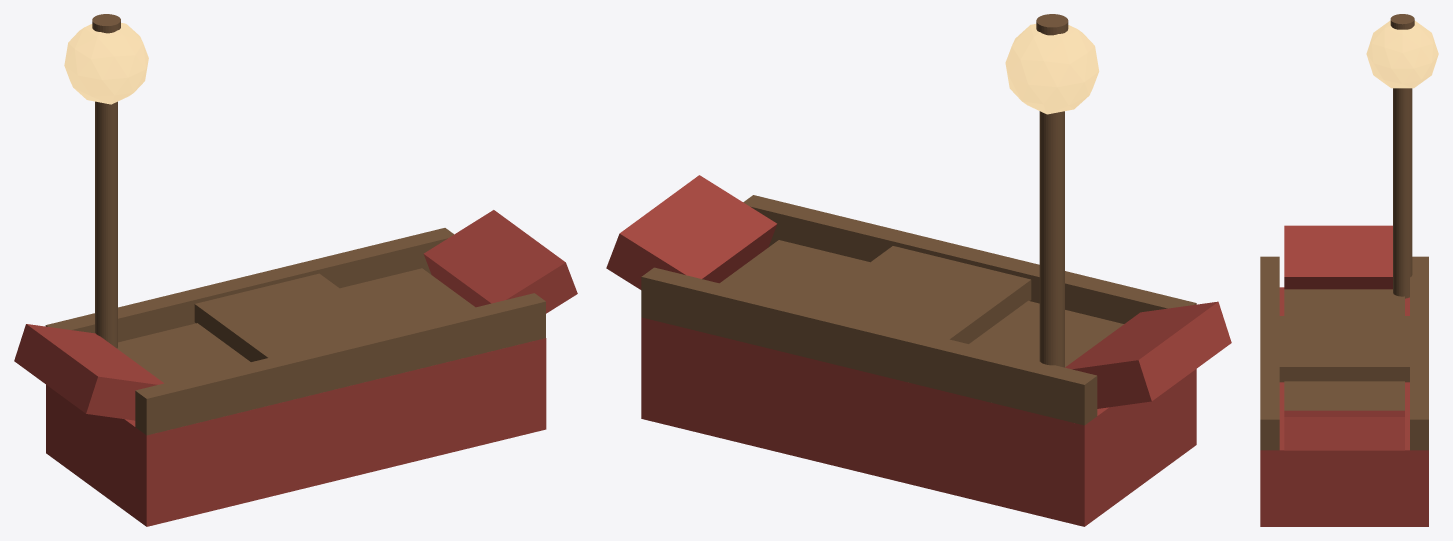
Rendered from boat.glb.
3 views of the same model, side by side, from view 1: azimuth 30°, elevation 25°; view 2: azimuth 150°, elevation 25°; view 3: azimuth 270°, elevation 25° (orthographic). The views are drawn at different scales.
Visible parts, largest first — view 1: end_1, bench, lantern; view 2: end_1, bench, lantern; view 3: bench, end_1, lantern.
Boxes of the visible parts, <box> form: end_1: <box>14,210,577,526</box>; bench: <box>45,14,545,435</box>; lantern: <box>64,23,148,104</box>; end_1: <box>606,175,1231,526</box>; bench: <box>641,14,1196,425</box>; lantern: <box>1005,24,1099,114</box>; bench: <box>1260,14,1428,450</box>; end_1: <box>1260,225,1428,526</box>; lantern: <box>1366,20,1438,88</box>.
Bounding box in the file's own units: 1.97 × 1.66 × 0.7401.
